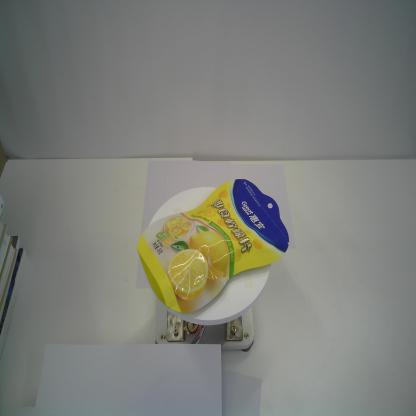Dried Fruit: (134, 176, 290, 314)
